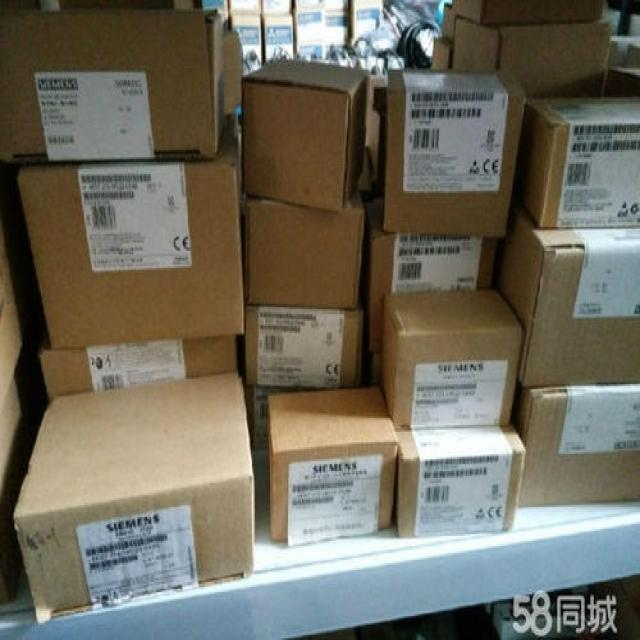box: (13, 371, 256, 623), (18, 111, 246, 348), (1, 8, 228, 166), (499, 169, 639, 387), (385, 65, 526, 234), (364, 194, 499, 356), (266, 386, 399, 542), (381, 287, 523, 428), (243, 55, 369, 211), (514, 94, 639, 227), (511, 375, 639, 504), (451, 0, 614, 94), (39, 330, 238, 405), (395, 427, 526, 538), (247, 183, 362, 307), (245, 299, 364, 389), (244, 381, 362, 452), (0, 376, 33, 601), (228, 1, 263, 76), (261, 2, 295, 61), (225, 30, 244, 114), (293, 3, 323, 56), (320, 1, 350, 51), (351, 1, 383, 42), (605, 62, 639, 92), (202, 0, 229, 29), (431, 36, 453, 67), (441, 3, 452, 45), (625, 37, 639, 68)
